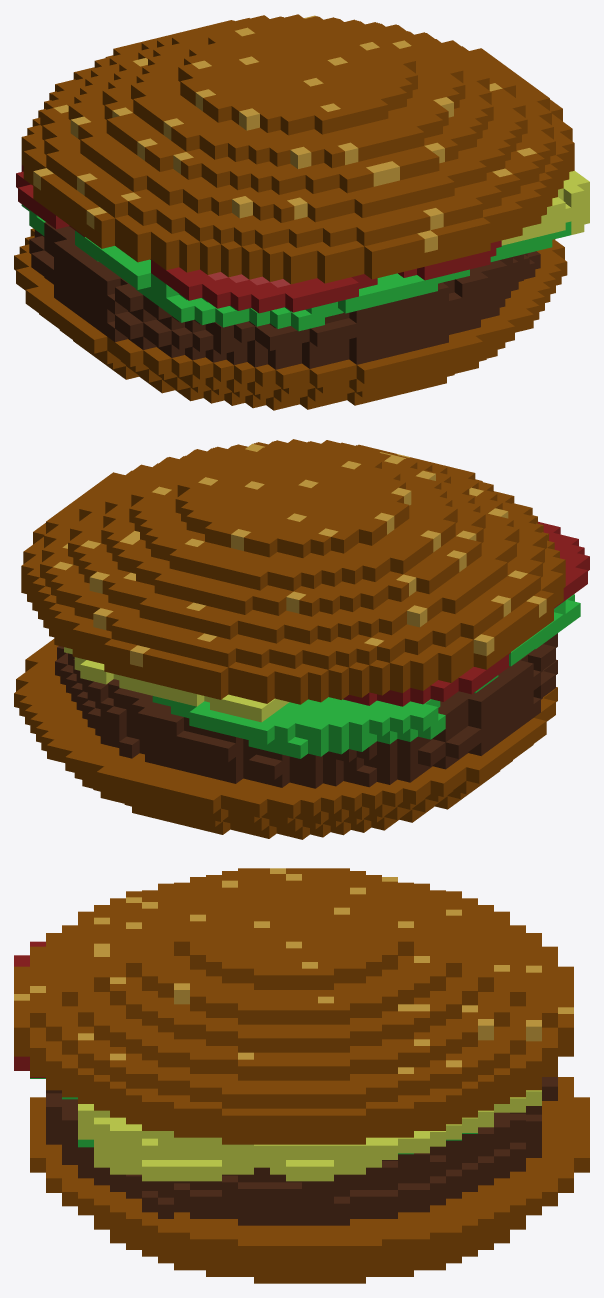
The model's file is burger.fbx.
The picture shows the model from 3 angles, top to bottom: view 1: azimuth 30°, elevation 25°; view 2: azimuth 150°, elevation 25°; view 3: azimuth 270°, elevation 25°; orthographic projection. The views are drawn at different scales.
Parts seen in each view (by area): view 1: burger; view 2: burger; view 3: burger.
Part boxes in pixels (left/top/right/bottom): burger: left=14, top=14, right=589, bottom=410; burger: left=14, top=439, right=589, bottom=839; burger: left=14, top=868, right=589, bottom=1283.
Bounding box in the file's own units: 3500 × 1900 × 3600.
2 materials, 1 textured.
